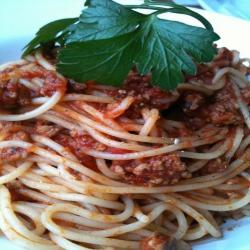bolonese_pasta: (4, 74, 249, 245)
salad: (43, 10, 215, 84)
